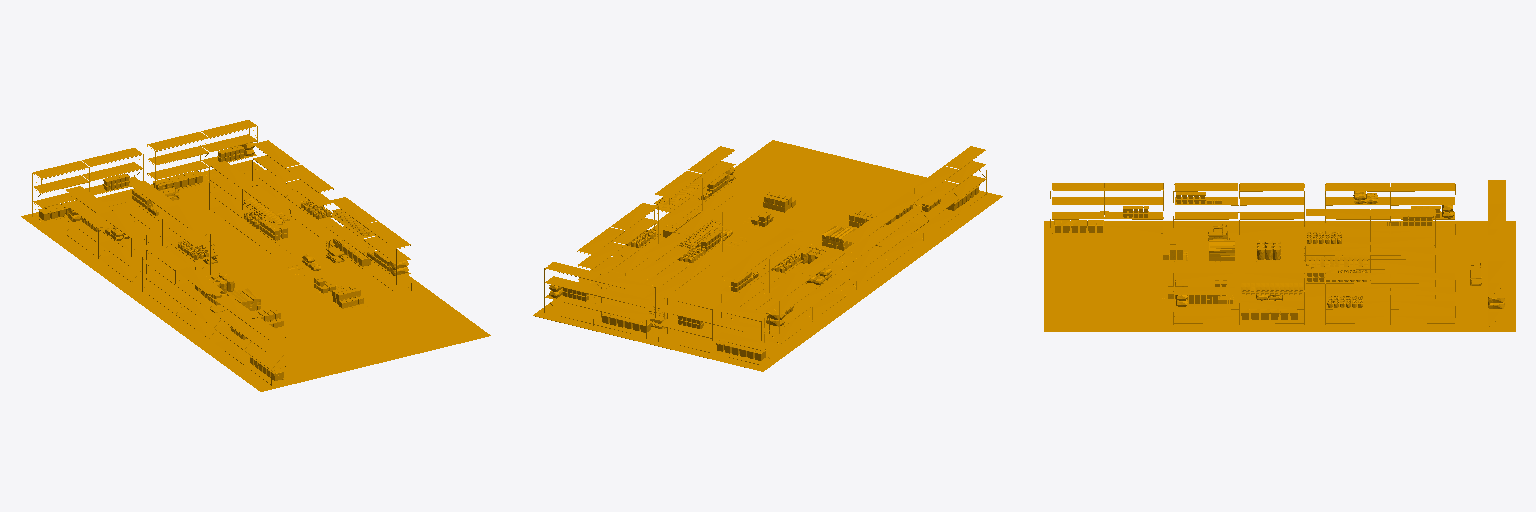
robot.urdf — maze:
<?xml version="1.0" ?>
<robot name="maze">
  <link name="root">
    <visual>
      <origin xyz="0 0 0" rpy="0 0 0" />
      <geometry>
        <mesh filename="uploads_files_2883707_warehouse6_simple.stl" scale="0.5 0.5 0.5"/>
      </geometry>
    </visual>
    <collision>
      <origin xyz="0 0 0" rpy="0 0 0" />
      <geometry>
        <mesh filename="uploads_files_2883707_warehouse6_simple.stl" scale="0.5 0.5 0.5"/>
      </geometry>
    </collision>
  </link>
</robot>

--- What the picture shows (computed from the rendered views, not written in the file) ---
3 views of the same robot in one strip: view 1: azimuth 30°, elevation 25°; view 2: azimuth 150°, elevation 25°; view 3: azimuth 270°, elevation 25° (orthographic).
Model maze with 1 links and 0 joints (none), rooted at root, posed all joints at 0.
Links seen in each view (by area): view 1: root; view 2: root; view 3: root.
Boxes of the visible links, x1,y1,x2,y2 form: root: (21,120,490,391); root: (533,140,1002,371); root: (1044,180,1515,331).
Size in the robot's own frame: 8.66 by 15.62 by 1.65 metres.
1 mesh visuals loaded from 1 distinct referenced files (1 binary STL).
